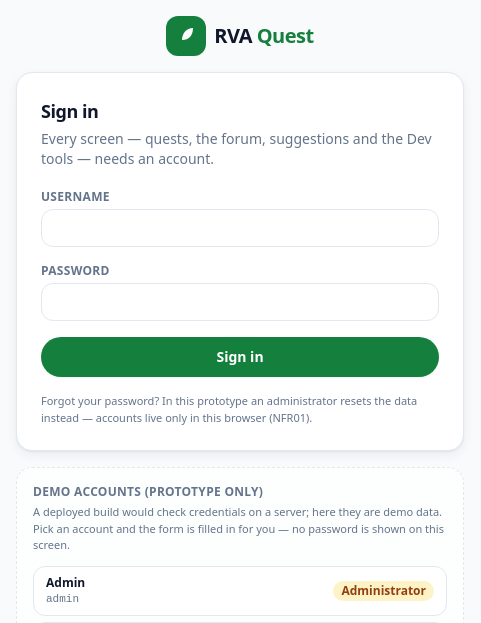
Test: LoginPage — the sign-in gate › answers a wrong password with the generic message
Step 1. Type "admin" into the field labelled "Username" → (240, 228), box [41,209,439,247]
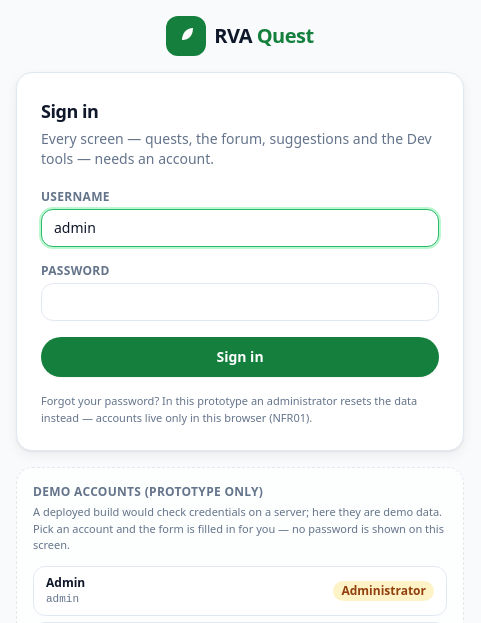
Step 2. Type "almost" into the password field labelled "Password" → (240, 302), box [41,283,439,321]
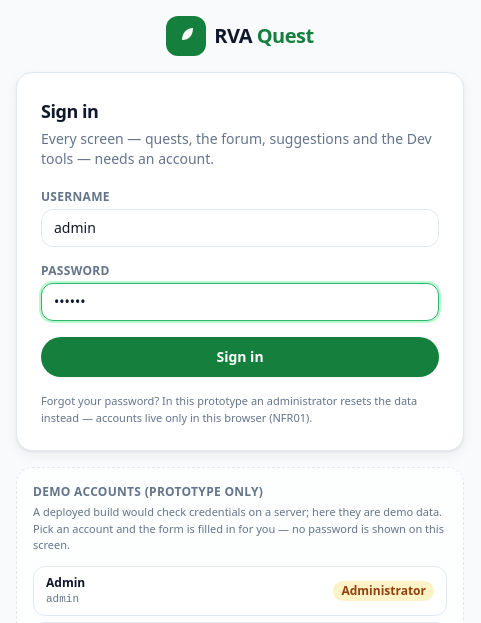
Step 3. Click the button "Sign in" → (240, 357), box [41,337,439,377]
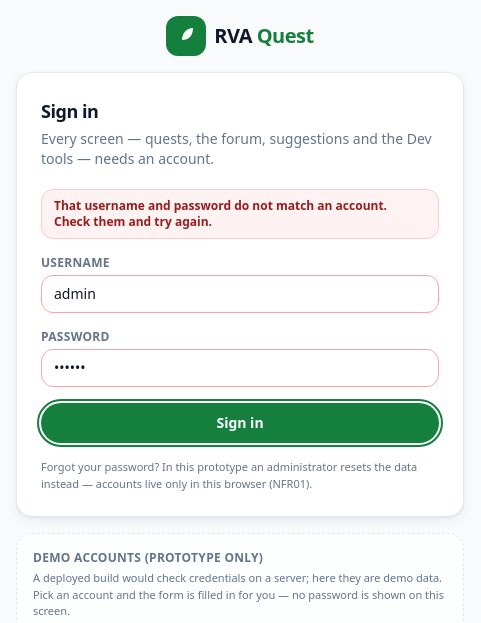
Check: the message reads "That username and password do not match an account. Check them and try again.", box [54,197,387,230]
